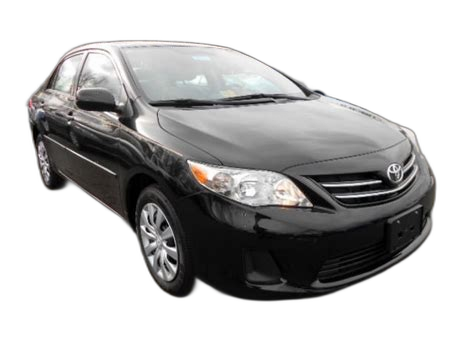car: (23, 37, 441, 303)
